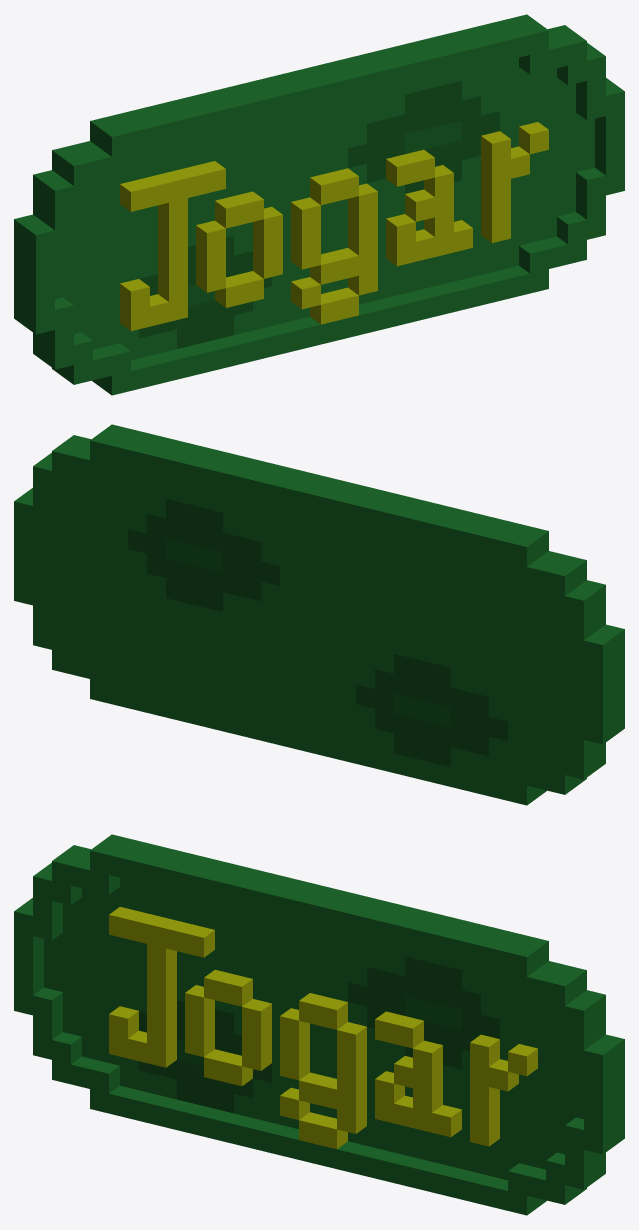
The model's file is 5_0 jogar.obj.
3 views of the same model, one above another, from view 1: azimuth 30°, elevation 25°; view 2: azimuth 150°, elevation 25°; view 3: azimuth 330°, elevation 25° (orthographic).
Size of the model in its own units: 3.1 by 1.3 by 0.2.
1 material, 1 textured.
